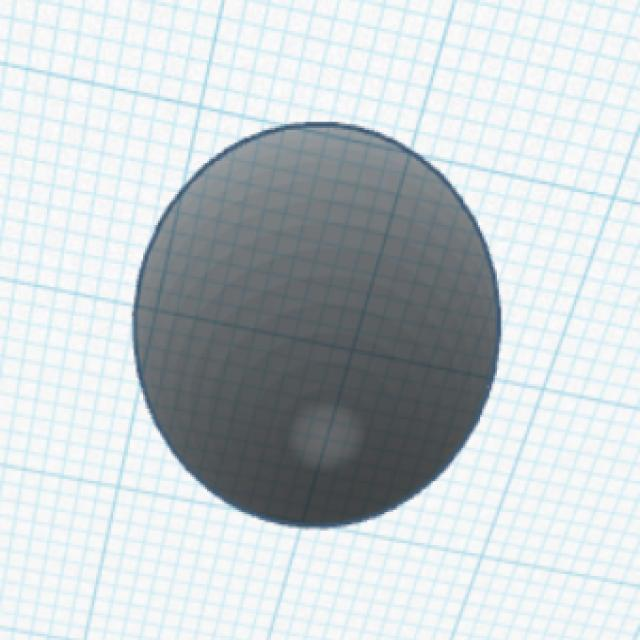sphere: (130, 119, 504, 532)
